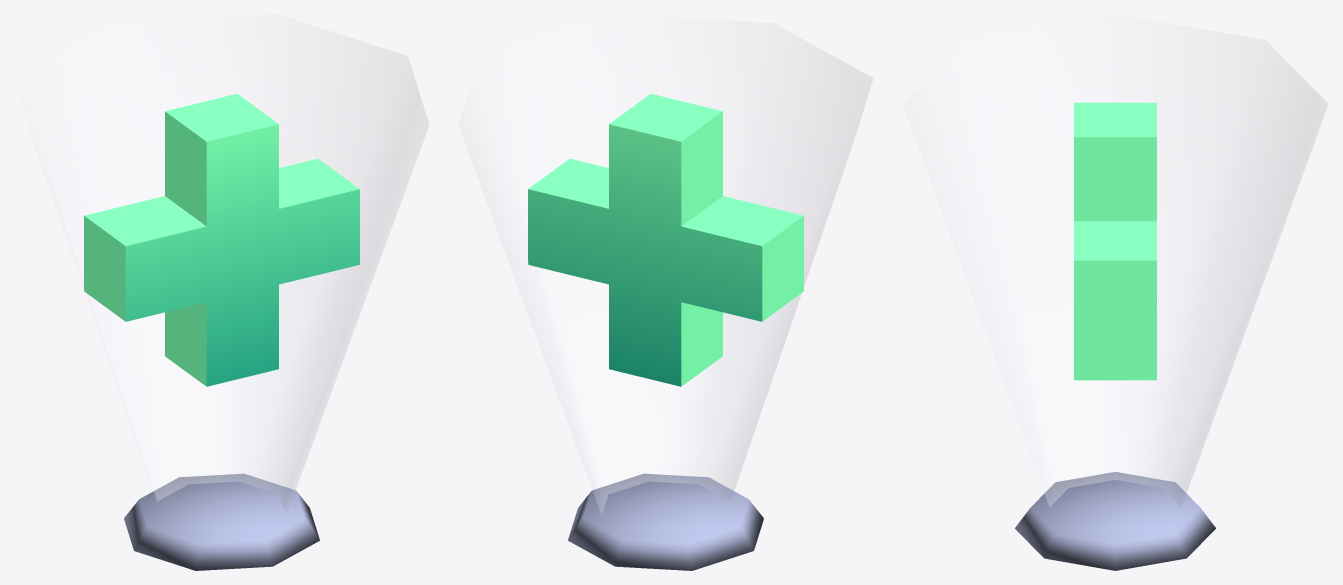
The model's file is PickUpHealth.glb.
3 renders of one model, left to right at view 1: azimuth 30°, elevation 25°; view 2: azimuth 150°, elevation 25°; view 3: azimuth 270°, elevation 25°, orthographic.
Parts seen in each view (by area): view 1: PickUpHealth; view 2: PickUpHealth; view 3: PickUpHealth.
Boxes of the visible parts, x1,y1,x2,y2 form: PickUpHealth: [15, 14, 428, 570]; PickUpHealth: [459, 14, 872, 570]; PickUpHealth: [903, 14, 1327, 570].
Size of the model in its own units: 1.66 by 1.82 by 1.66.
3 materials, 3 textured.
